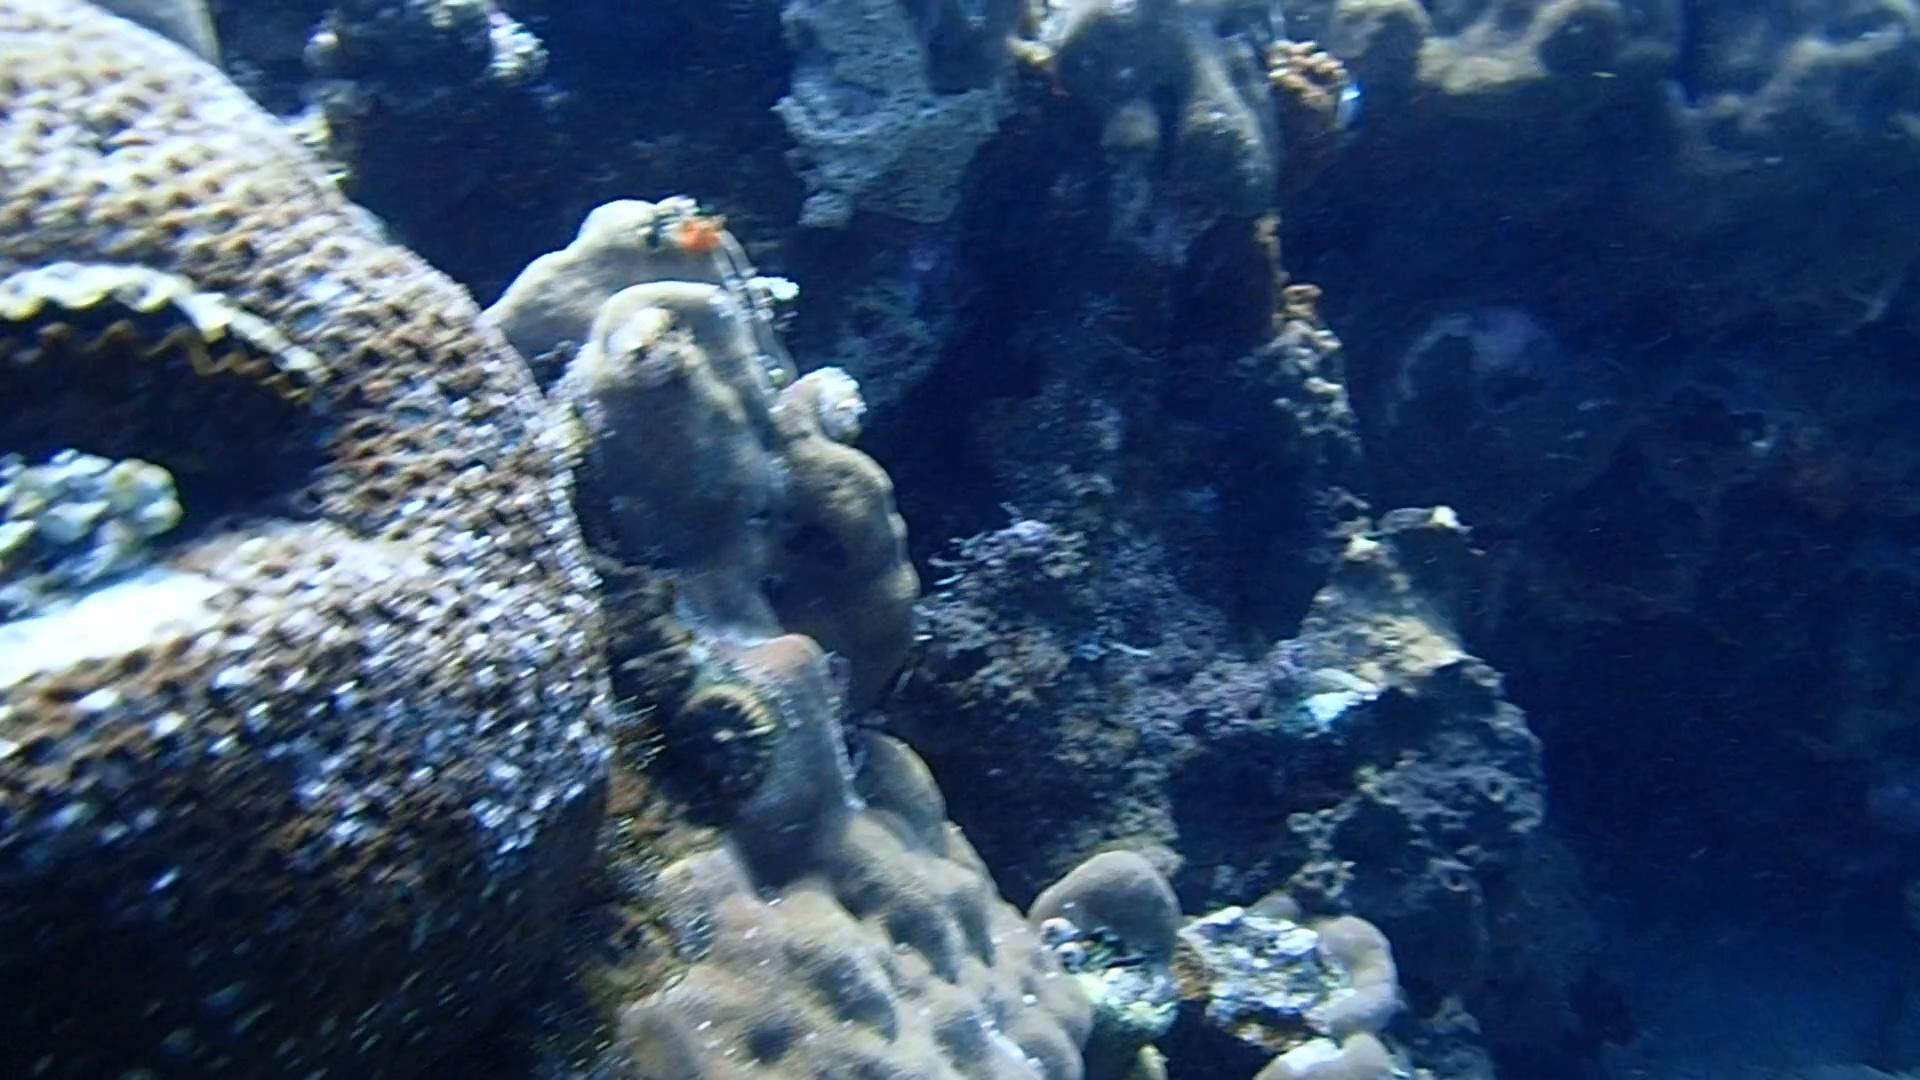Dark Fish: (761, 496, 869, 596), (914, 634, 1011, 700)
